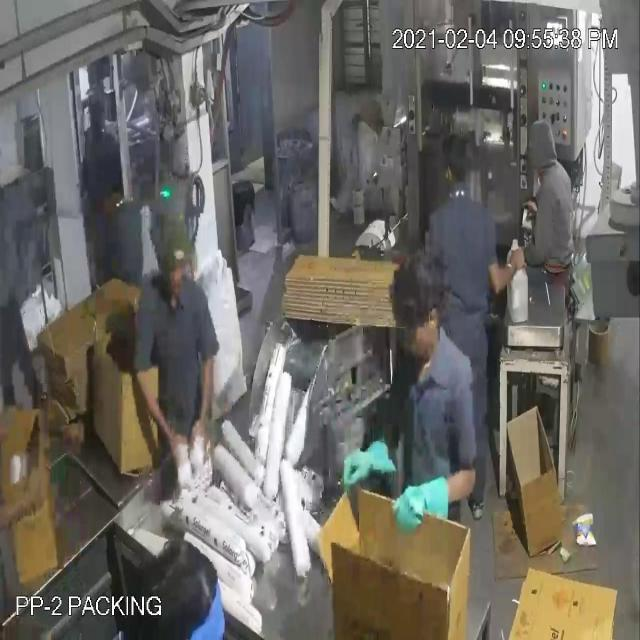No_Gloves: (36, 57, 506, 502)
